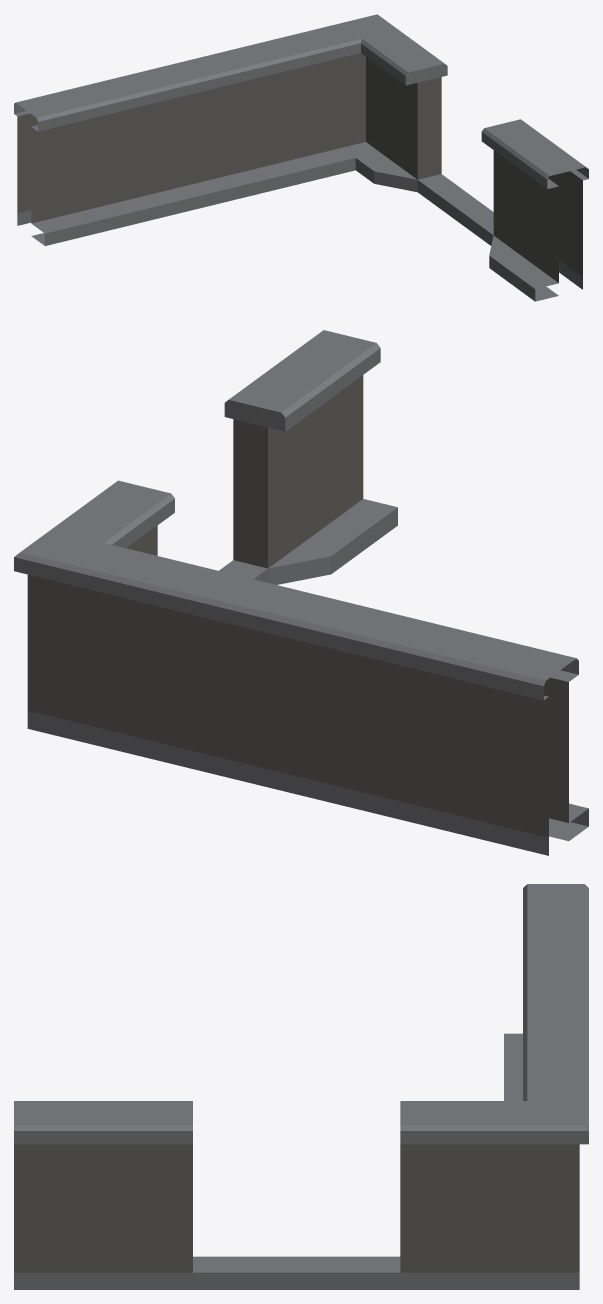
Rendered from SM_Roof_Corner_In_Ladder_R.fbx.
3 views of the same model, one above another, from view 1: azimuth 30°, elevation 25°; view 2: azimuth 150°, elevation 25°; view 3: azimuth 270°, elevation 25° (orthographic). The views are drawn at different scales.
Parts seen in each view (by area): view 1: SM_Roof_Corner_In_Ladder_R; view 2: SM_Roof_Corner_In_Ladder_R; view 3: SM_Roof_Corner_In_Ladder_R.
Boxes of the visible parts, box(x1,y1,x2,y2) form: SM_Roof_Corner_In_Ladder_R: box(14, 14, 588, 301); SM_Roof_Corner_In_Ladder_R: box(14, 330, 588, 855); SM_Roof_Corner_In_Ladder_R: box(14, 884, 588, 1289).
Bounding box in the file's own units: 305 × 97.55 × 305.
